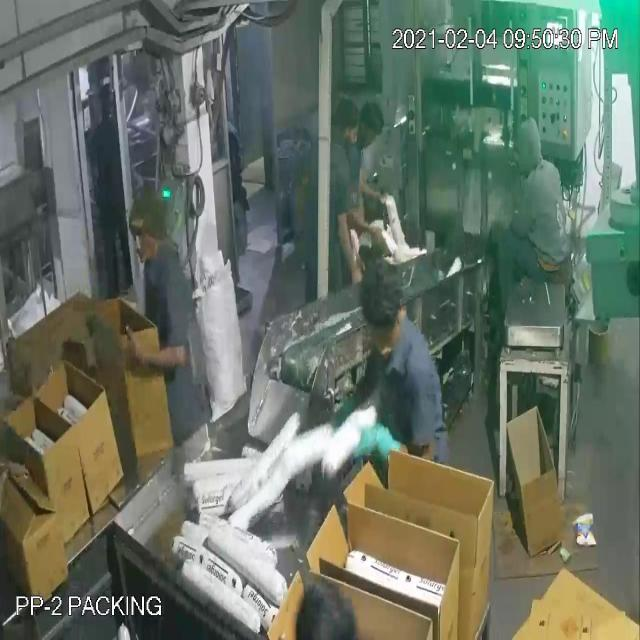No_Gloves: (32, 51, 376, 450)
